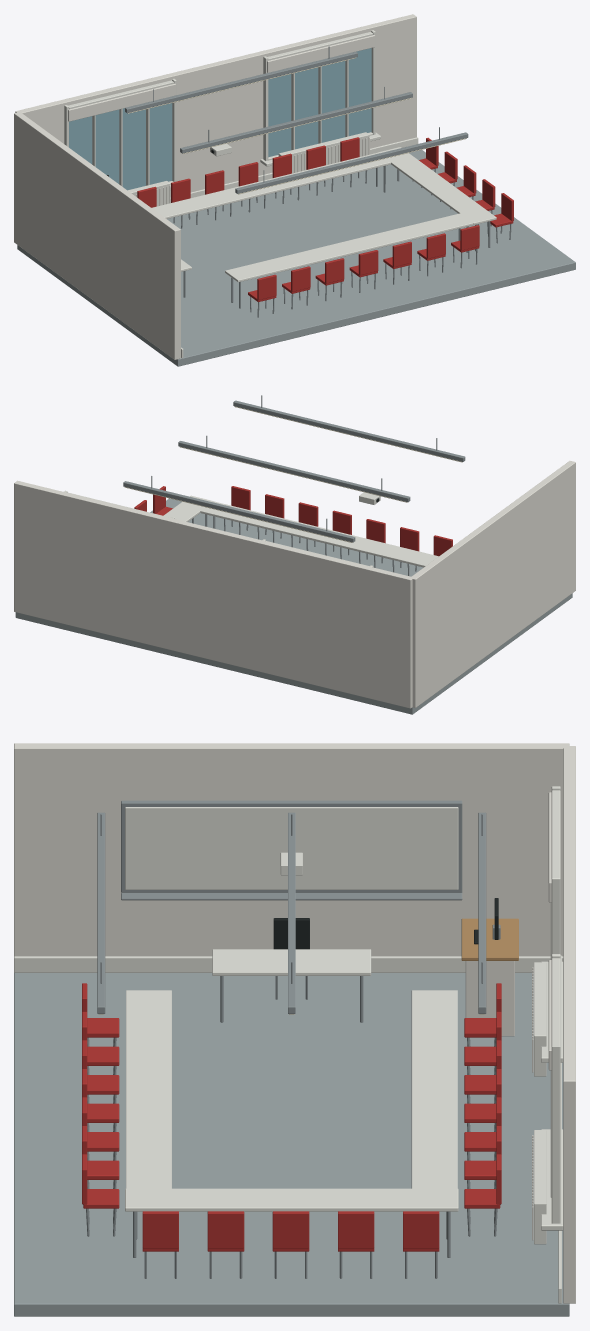
The model's file is sal-interior-c5767d839d56.glb.
3 renders of one model, top to bottom at view 1: azimuth 30°, elevation 25°; view 2: azimuth 150°, elevation 25°; view 3: azimuth 270°, elevation 25°, orthographic. The views are drawn at different scales.
Visible parts, largest first — view 1: SAL.001; view 2: SAL.001; view 3: SAL.001.
Boxes of the visible parts, <box> form: SAL.001: <box>14,14,575,366</box>; SAL.001: <box>14,395,575,714</box>; SAL.001: <box>14,743,575,1316</box>.
Bounding box in the file's own units: 10.08 × 3.63 × 7.08.
